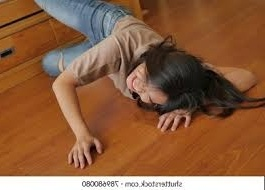fall: (30, 0, 251, 166)
